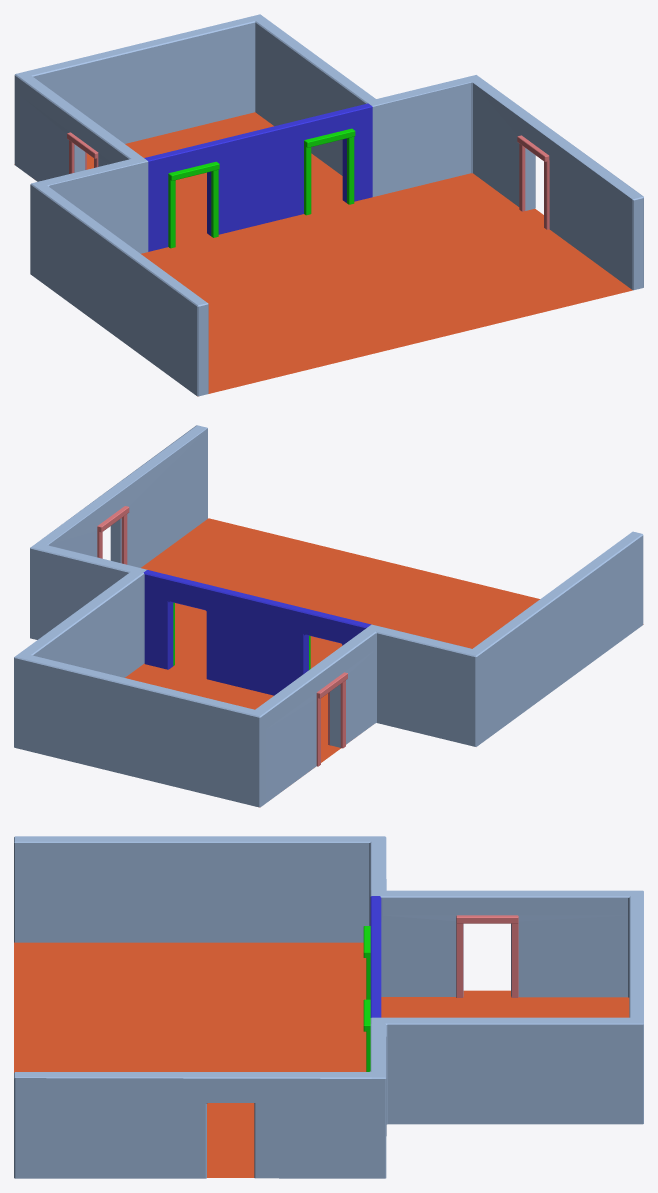
The model's file is VloerEnMuren_MetTransparantie.fbx.
The picture shows the model from 3 angles, top to bottom: view 1: azimuth 30°, elevation 25°; view 2: azimuth 150°, elevation 25°; view 3: azimuth 270°, elevation 25°; orthographic projection. The views are drawn at different scales.
Parts seen in each view (by area): view 1: Muren, Vloer, Muren_Transparant, Deurposten.001, Deurposten; view 2: Muren, Vloer, Muren_Transparant, Deurposten; view 3: Muren, Vloer, Deurposten, Muren_Transparant, Deurposten.001.
Part boxes in pixels (left/top/right/bottom): Muren: left=14, top=14, right=643, bottom=396; Vloer: left=14, top=112, right=632, bottom=396; Muren_Transparant: left=144, top=103, right=372, bottom=251; Deurposten.001: left=168, top=128, right=355, bottom=248; Deurposten: left=67, top=132, right=549, bottom=229; Muren: left=14, top=425, right=643, bottom=807; Vloer: left=125, top=518, right=643, bottom=807; Muren_Transparant: left=143, top=570, right=371, bottom=695; Deurposten: left=97, top=506, right=347, bottom=766; Muren: left=14, top=836, right=643, bottom=1178; Vloer: left=14, top=942, right=629, bottom=1177; Deurposten: left=456, top=915, right=518, bottom=997; Muren_Transparant: left=370, top=896, right=381, bottom=1017; Deurposten.001: left=363, top=926, right=370, bottom=1071.
Size of the model in its own units: 1000 by 194 by 1100.
